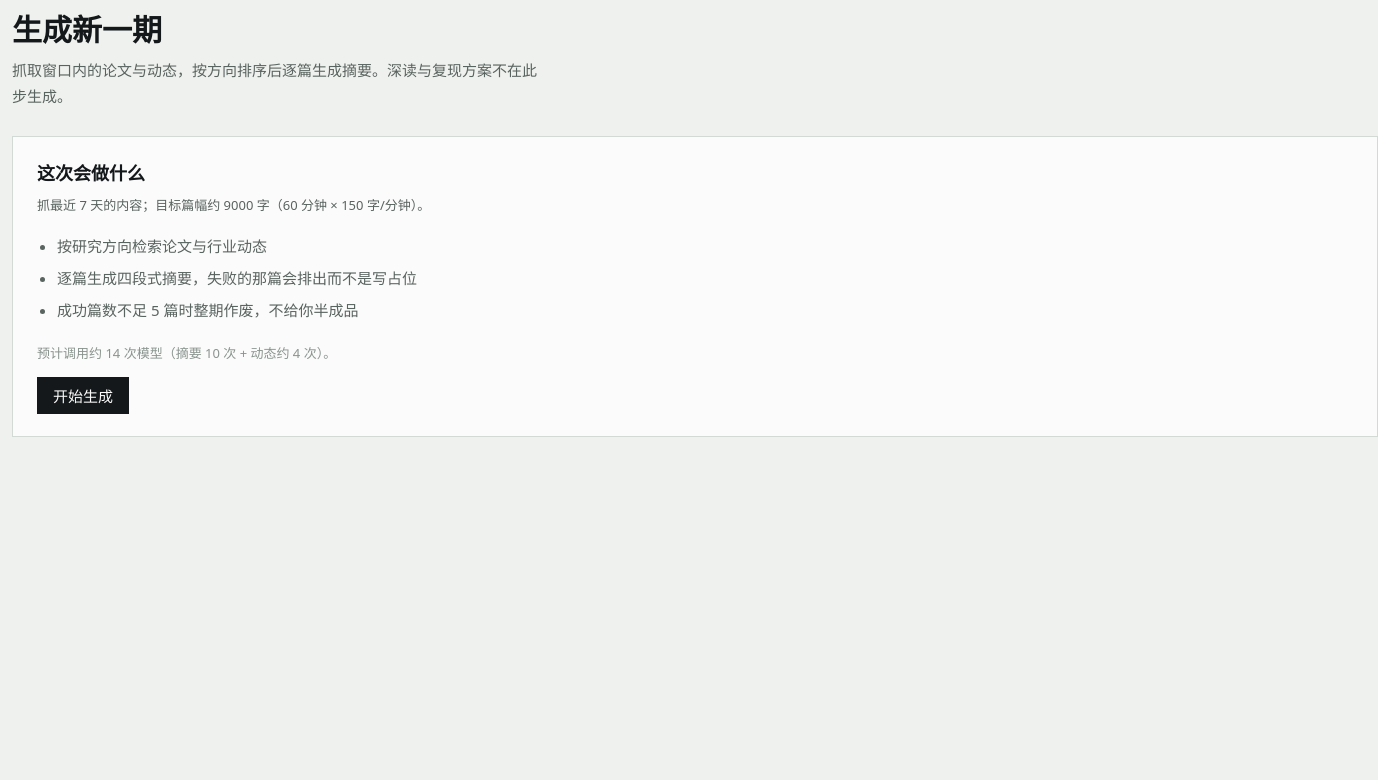
Test: GeneratePage › 点击生成后禁用按钮并显示进度
Click the button "开始生成". click: (83, 396)
box: [37,377,129,414]
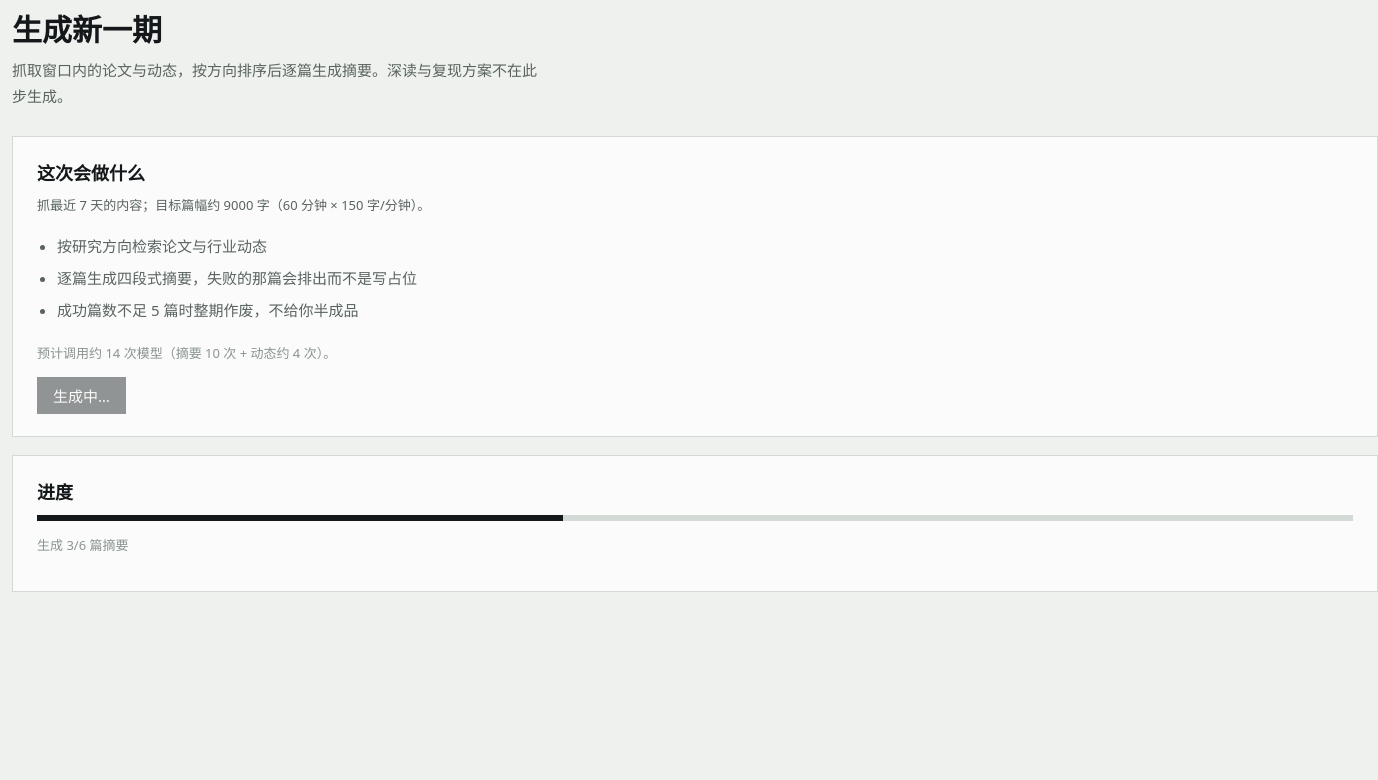
Expected: the button "生成中…" is disabled, [37,377,126,414]
Expected: the text "生成 3/6 篇摘要" is shown, [37,536,128,554]
